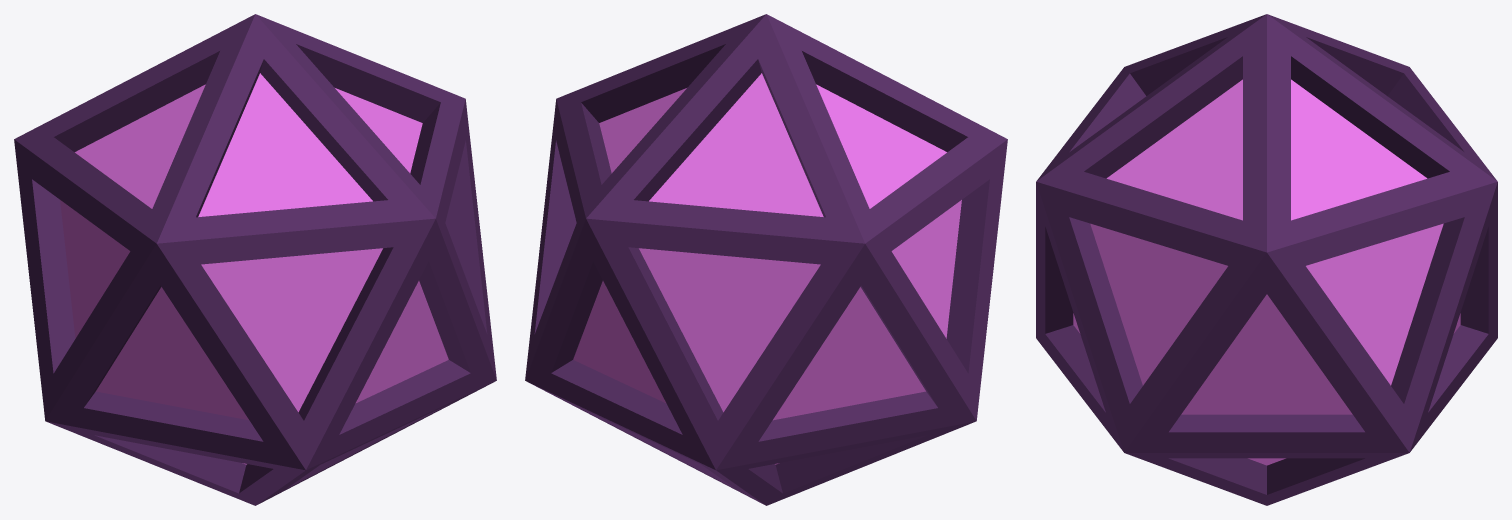
Rendered from Crystal.glb.
3 views of the same model, side by side, from view 1: azimuth 30°, elevation 25°; view 2: azimuth 150°, elevation 25°; view 3: azimuth 270°, elevation 25° (orthographic).
Visible parts, largest first — view 1: Icosphere; view 2: Icosphere; view 3: Icosphere.
Boxes of the visible parts, x1,y1,x2,y2 form: Icosphere: [14, 14, 496, 505]; Icosphere: [525, 14, 1007, 505]; Icosphere: [1036, 14, 1497, 505].
Size of the model in its own units: 1.69 by 1.89 by 1.61.
